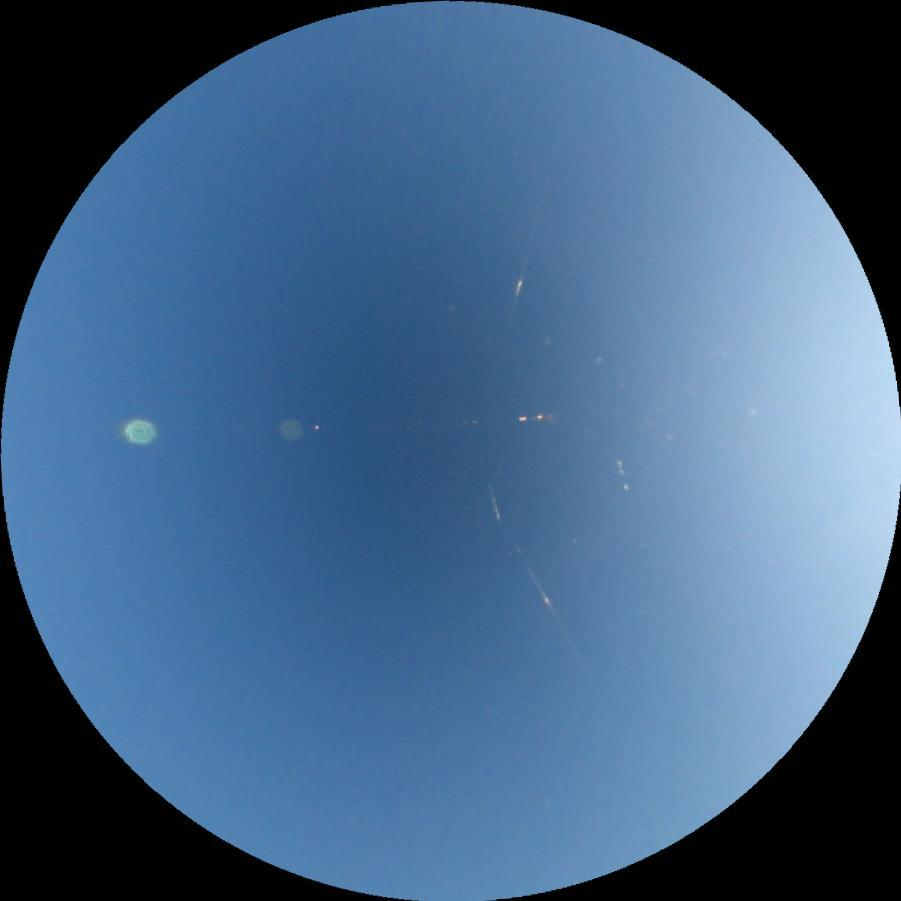parasite: (476, 481, 581, 660), (500, 239, 536, 332)
